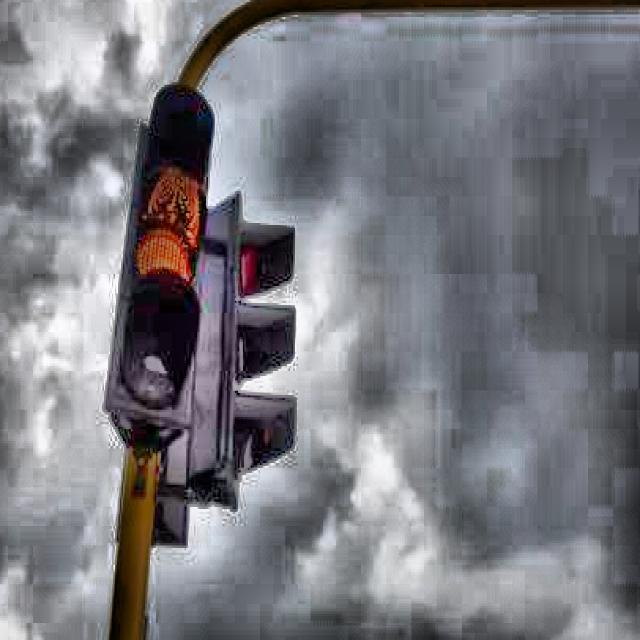yellow: (122, 126, 199, 411)
